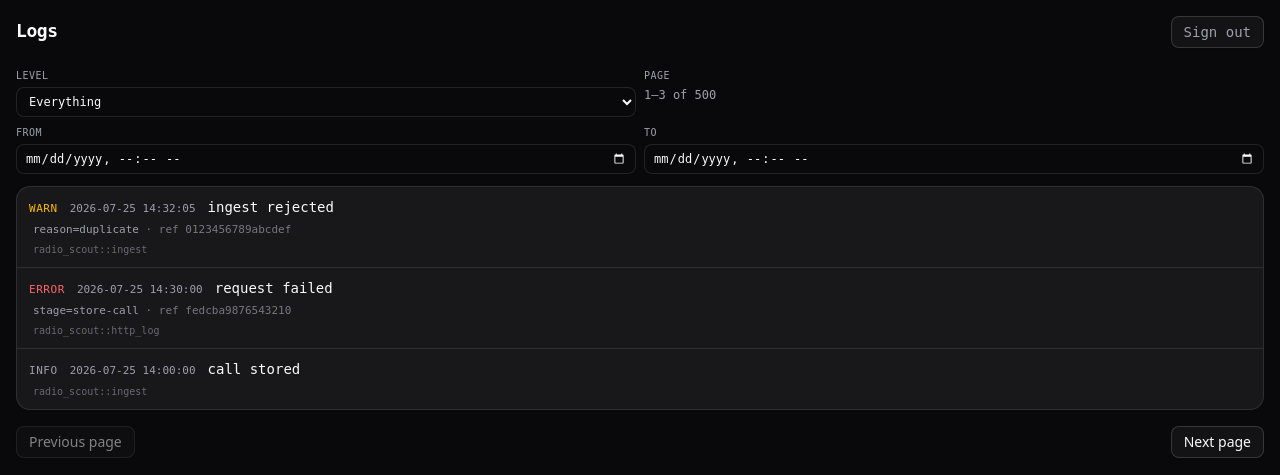
Test: the log itself (#30) › pages through a long log
Click the button "Next page" at (1217,442), box x1=1171 y1=426 x2=1264 y2=458
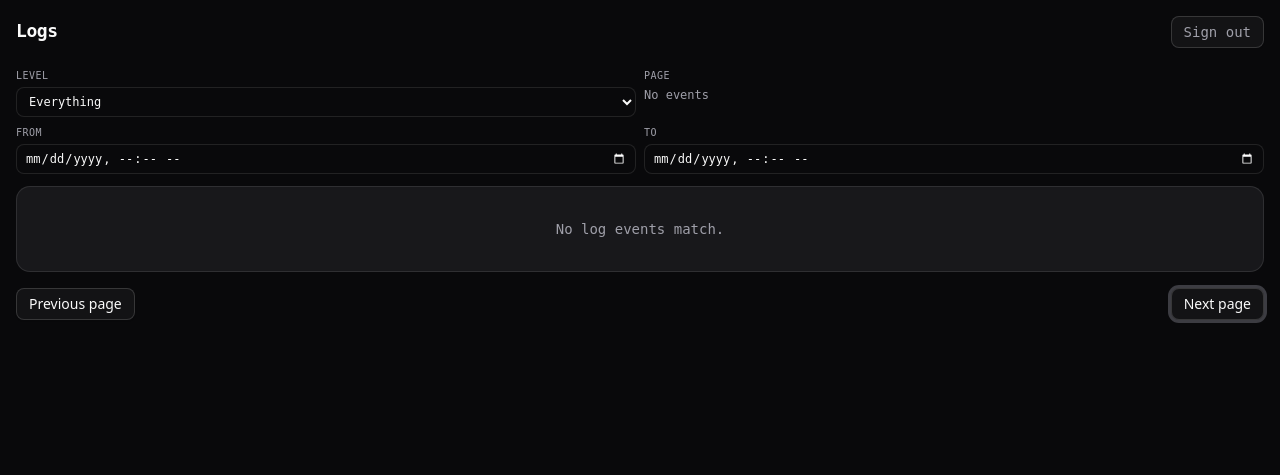
Click the button "Previous page" at (75,304), box x1=16 y1=288 x2=135 y2=320
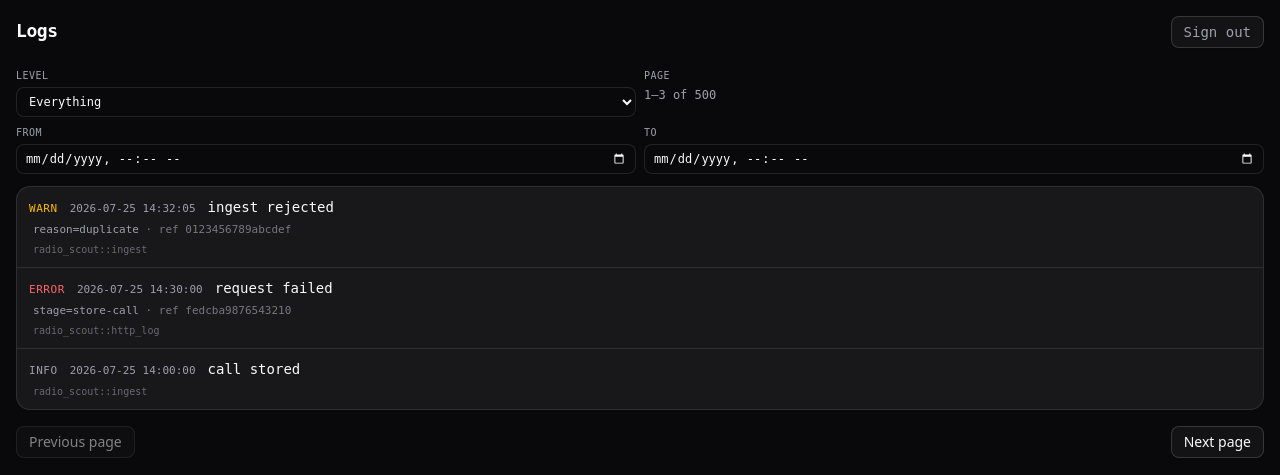
Expected: the button "Previous page" is disabled, x1=16 y1=426 x2=135 y2=458
